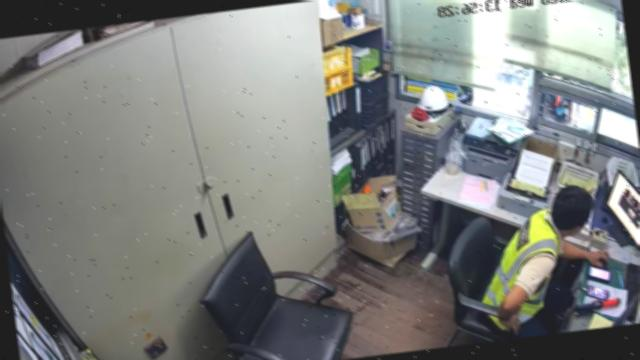Head: (549, 185, 594, 236)
People: (481, 186, 611, 337)
Phone: (587, 266, 610, 282), (585, 286, 610, 300)
